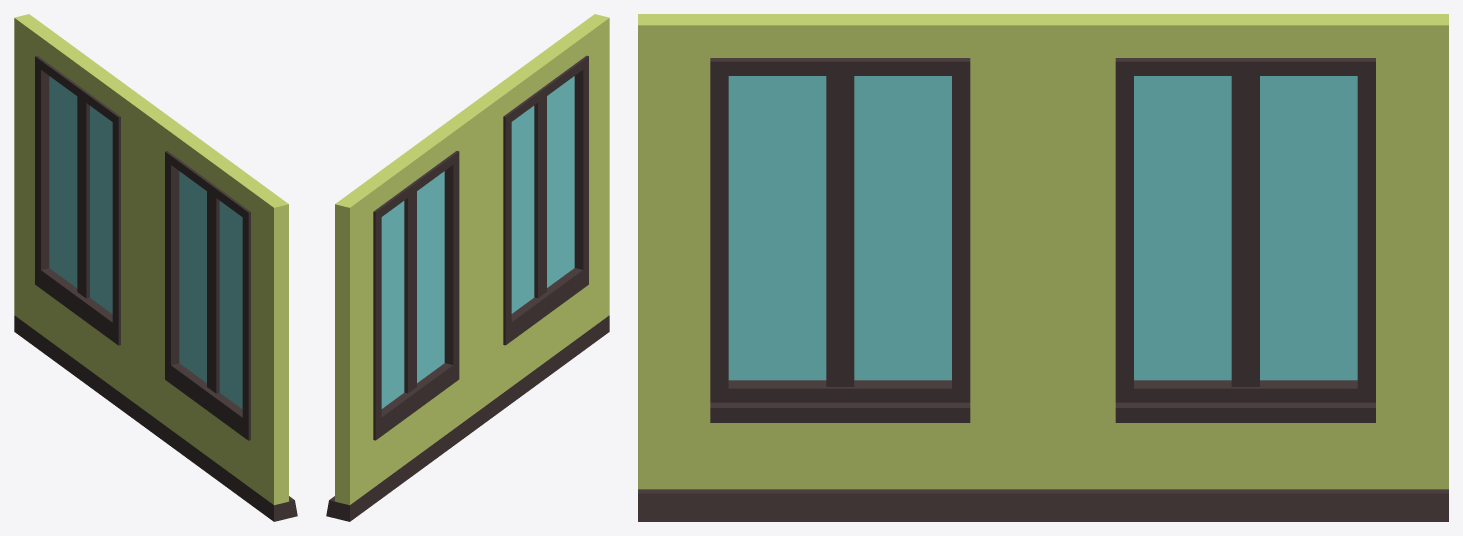
The model's file is SM_Wall_Basic_Windowed.fbx.
3 views of the same model, side by side, from view 1: azimuth 30°, elevation 25°; view 2: azimuth 150°, elevation 25°; view 3: azimuth 270°, elevation 25° (orthographic). The views are drawn at different scales.
Parts seen in each view (by area): view 1: Cube.003, Plane.003, Plane.001, Cube.002, Cube.004; view 2: Cube.003, Plane.003, Plane.001, Cube.004, Cube.002; view 3: Cube.003, Cube.002, Cube.004, Plane.001, Plane.003.
Part boxes in pixels (x1,y1,x2,y2): Cube.003: (14, 14, 297, 521); Plane.003: (35, 56, 120, 345); Plane.001: (165, 151, 250, 440); Cube.002: (179, 171, 242, 408); Cube.004: (49, 76, 112, 313); Cube.003: (326, 14, 609, 521); Plane.003: (373, 151, 459, 440); Plane.001: (503, 55, 588, 345); Cube.004: (381, 171, 444, 408); Cube.002: (511, 76, 574, 313); Cube.003: (638, 14, 1448, 521); Cube.002: (728, 76, 951, 380); Cube.004: (1134, 76, 1357, 380); Plane.001: (710, 58, 970, 422); Plane.003: (1115, 58, 1375, 422).
Size of the model in its own units: 38.55 by 400 by 600.
